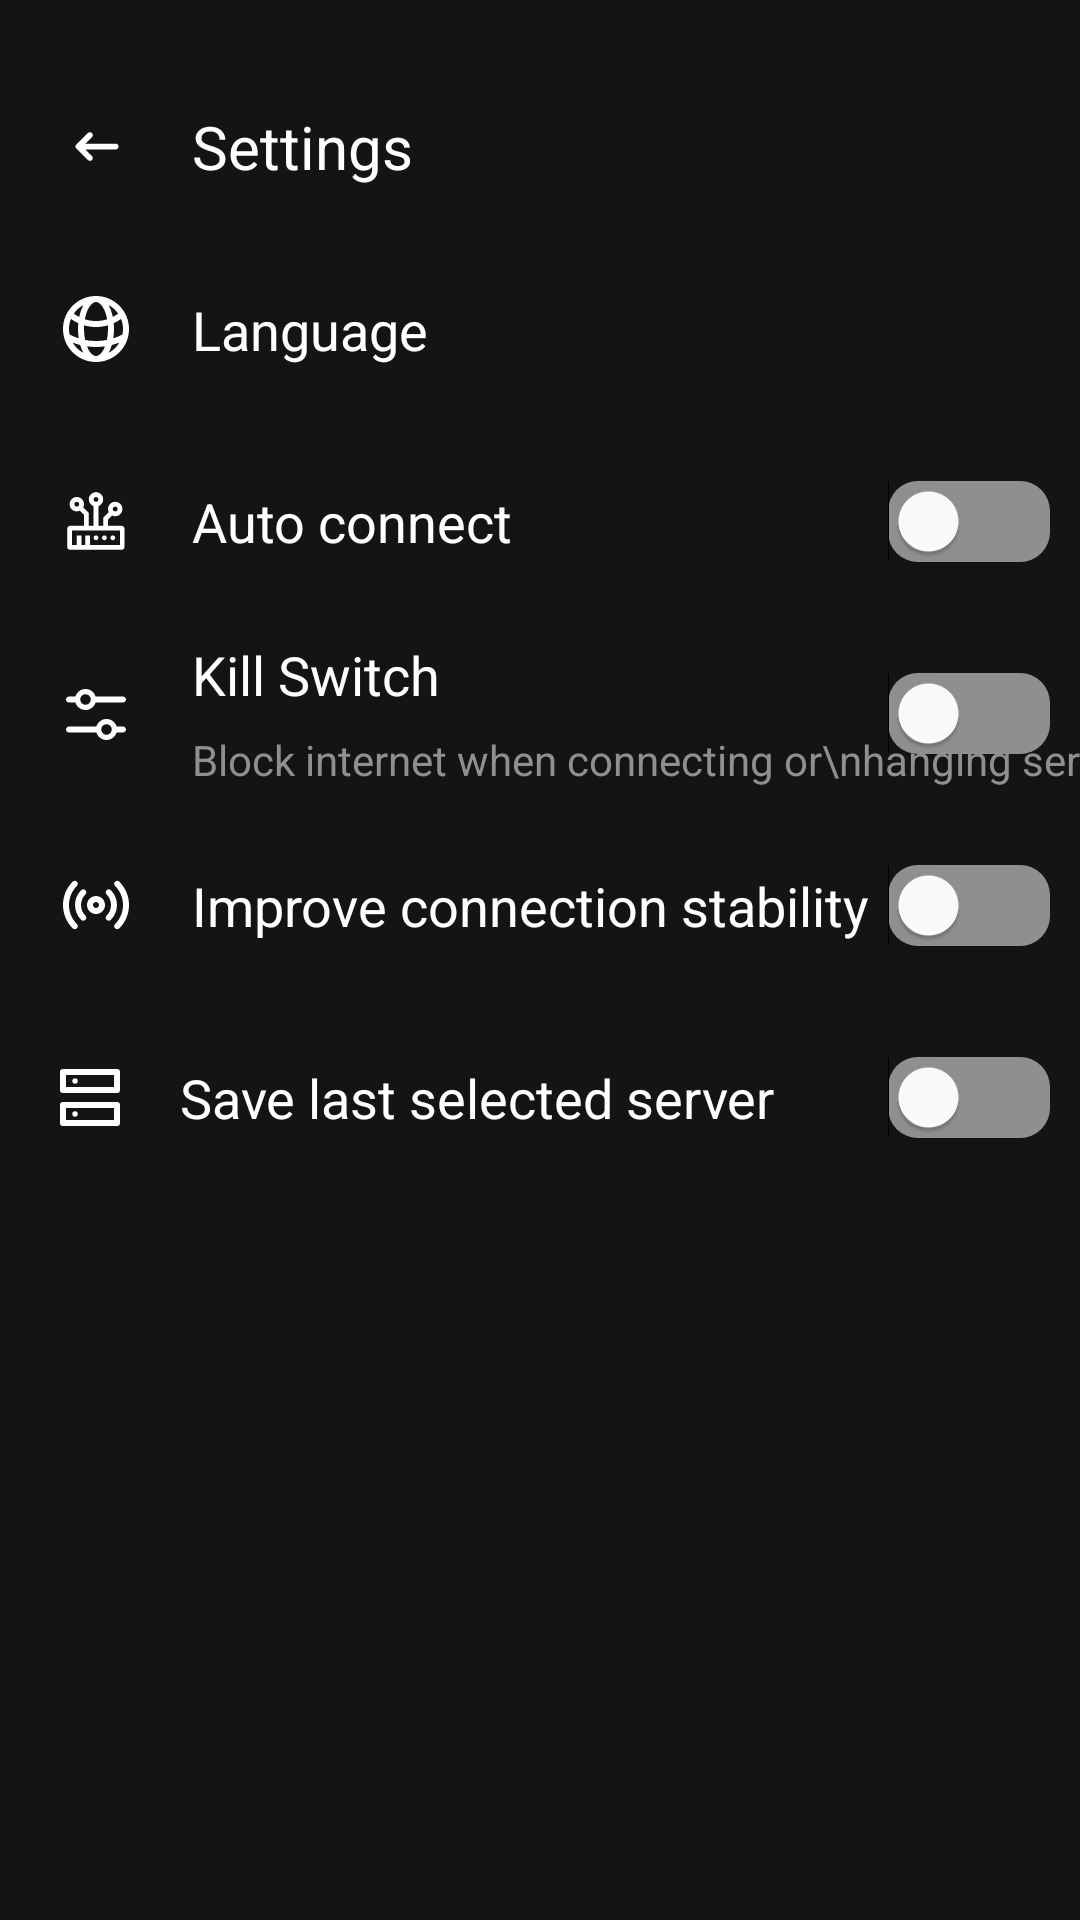

Named icons in this screenshot (1080w x 1920h) and their centers, [x,y]:
back: [97,146]
signal connection: [96,905]
world: [96,329]
